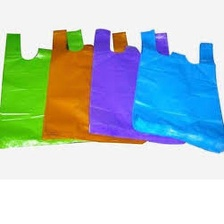plastic_bag: (37, 22, 151, 150), (128, 23, 224, 158), (85, 23, 188, 147), (0, 27, 92, 151)
